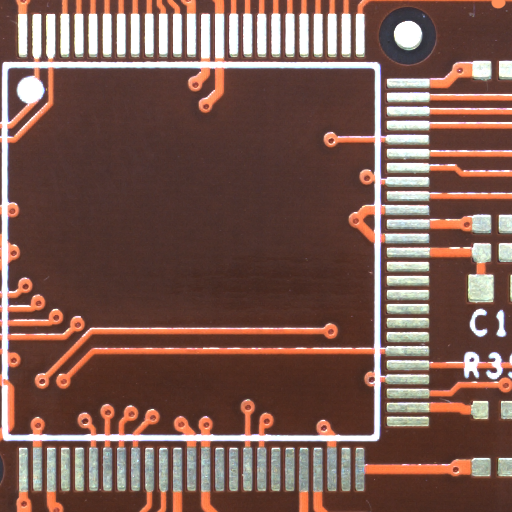Spur: (498, 5, 512, 15)
